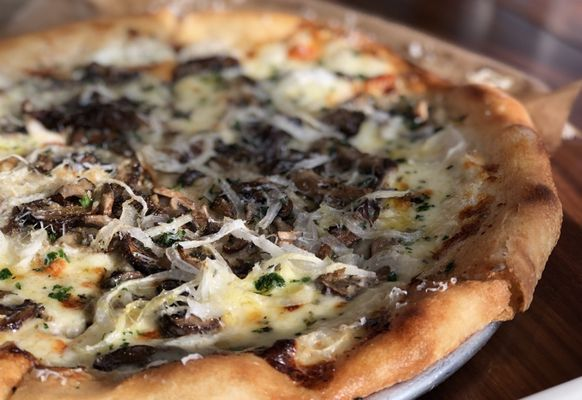sandwich: (0, 6, 564, 397)
